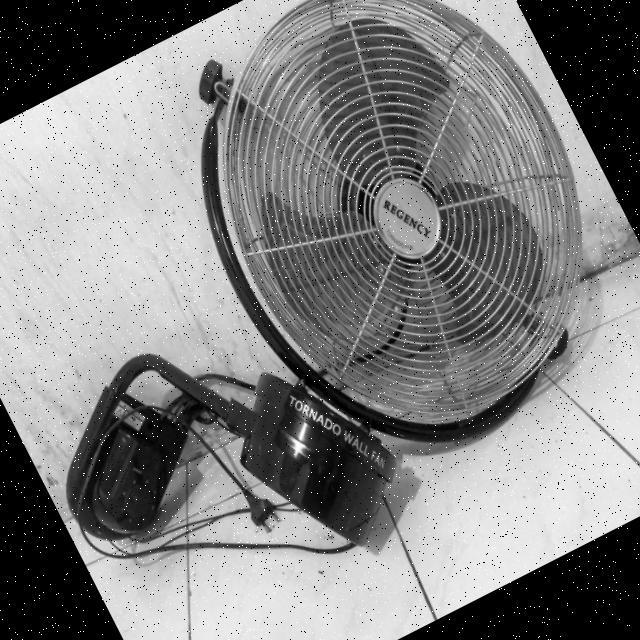fan: (125, 0, 640, 522)
